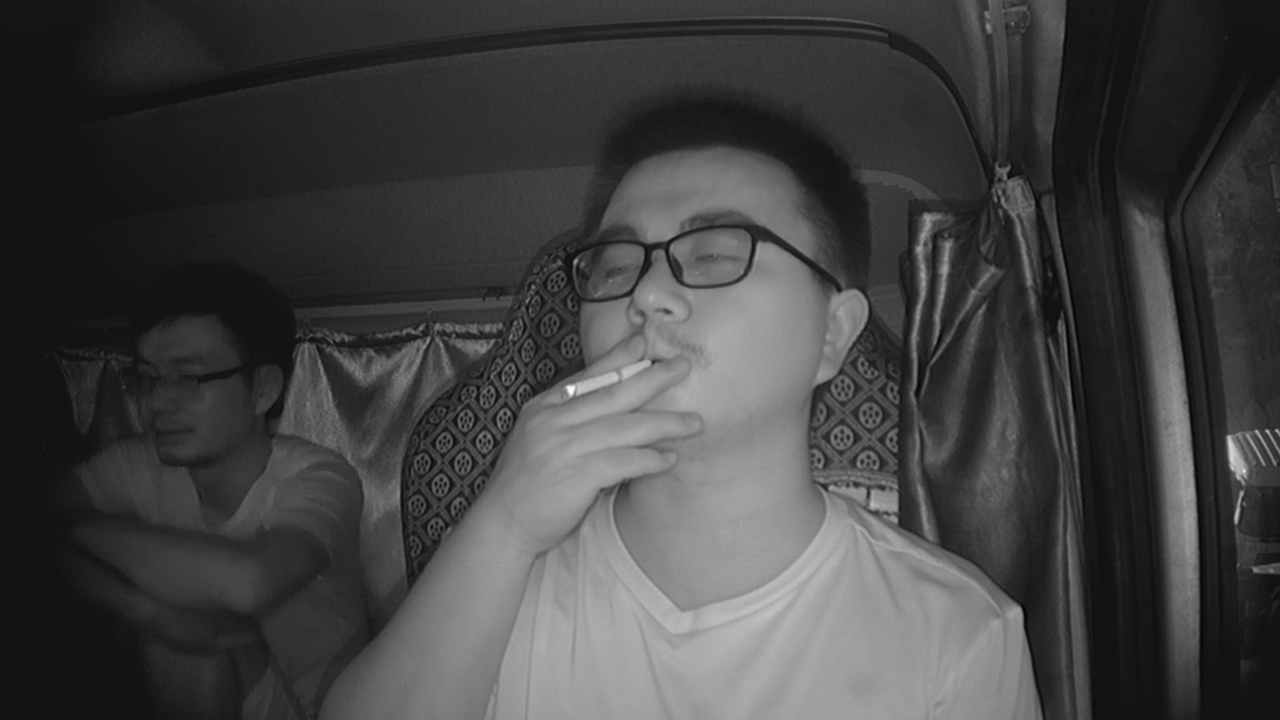hand: (548, 335, 677, 488)
